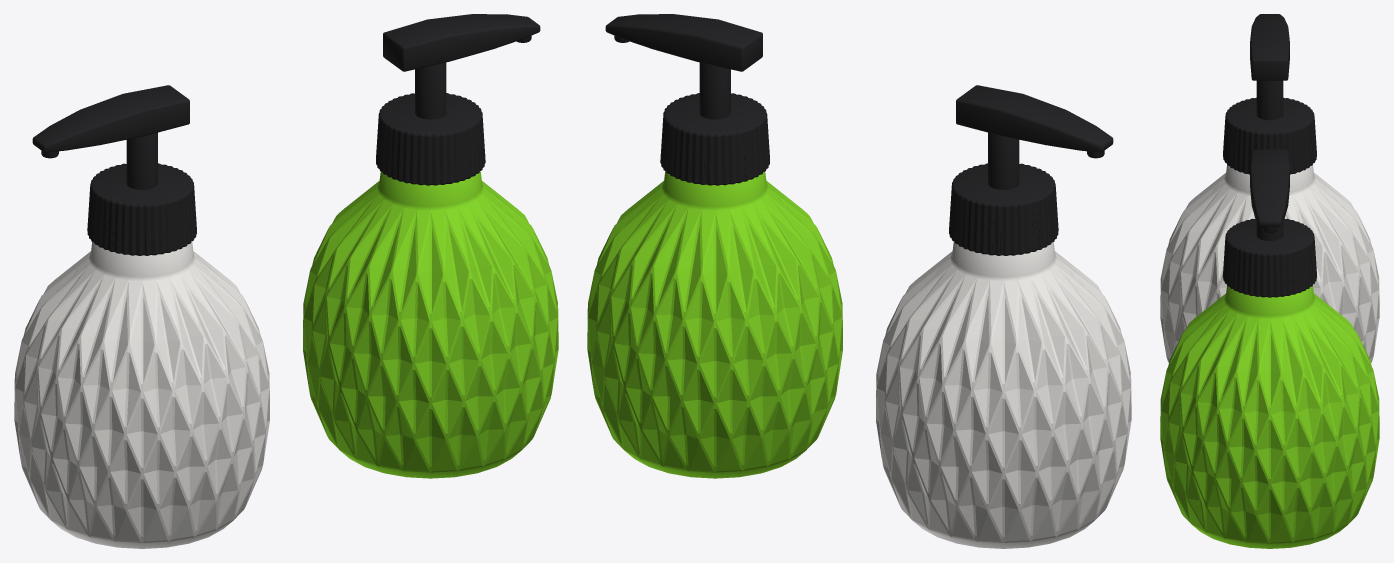
File: hand-wash-bottle-duo.glb
The picture shows the model from 3 angles, left to right: view 1: azimuth 30°, elevation 25°; view 2: azimuth 150°, elevation 25°; view 3: azimuth 270°, elevation 25°; orthographic projection. The views are drawn at different scales.
Parts seen in each view (by area): view 1: LimexBottleWhite, LimexBottleGreen; view 2: LimexBottleWhite, LimexBottleGreen; view 3: LimexBottleGreen, LimexBottleWhite.
Part boxes in pixels (bbox=[...]): LimexBottleWhite: bbox=[14, 85, 269, 548]; LimexBottleGreen: bbox=[303, 14, 558, 478]; LimexBottleWhite: bbox=[876, 85, 1131, 548]; LimexBottleGreen: bbox=[587, 14, 842, 478]; LimexBottleGreen: bbox=[1160, 149, 1379, 548]; LimexBottleWhite: bbox=[1160, 14, 1379, 362].
Size of the model in its own units: 0.2546 by 0.1959 by 0.1106.
Materials: 2 (2 with a texture image).
